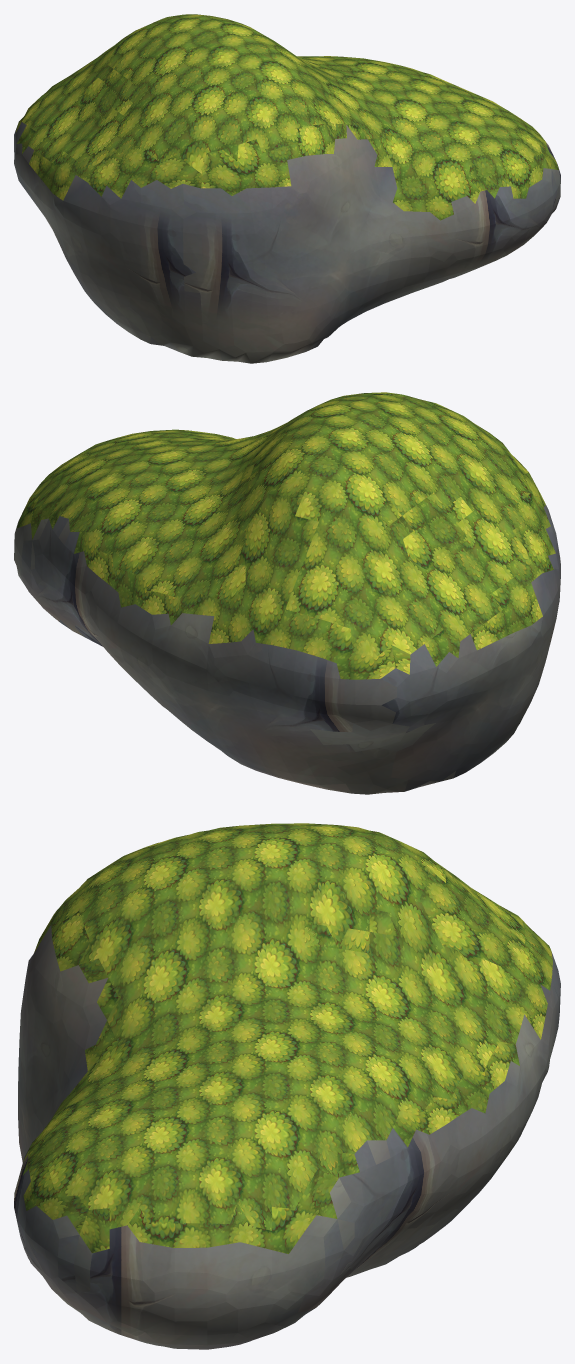
File: mossy_boulder1.glb
The picture shows the model from 3 angles, top to bottom: view 1: azimuth 30°, elevation 25°; view 2: azimuth 150°, elevation 25°; view 3: azimuth 270°, elevation 25°; orthographic projection. The views are drawn at different scales.
Parts seen in each view (by area): view 1: mossy_boulder1_stone_LOD0, mossy_boulder1_moss_LOD0; view 2: mossy_boulder1_moss_LOD0, mossy_boulder1_stone_LOD0; view 3: mossy_boulder1_moss_LOD0, mossy_boulder1_stone_LOD0.
Boxes of the visible parts, x1,y1,x2,y2 form: mossy_boulder1_stone_LOD0: [14, 122, 560, 363]; mossy_boulder1_moss_LOD0: [16, 14, 558, 220]; mossy_boulder1_moss_LOD0: [17, 392, 555, 679]; mossy_boulder1_stone_LOD0: [14, 505, 560, 794]; mossy_boulder1_moss_LOD0: [22, 823, 552, 1253]; mossy_boulder1_stone_LOD0: [14, 925, 560, 1349].
Size of what is drawn, in the model's own units: 3.07 by 1.73 by 2.24.
2 materials, 2 textured.
